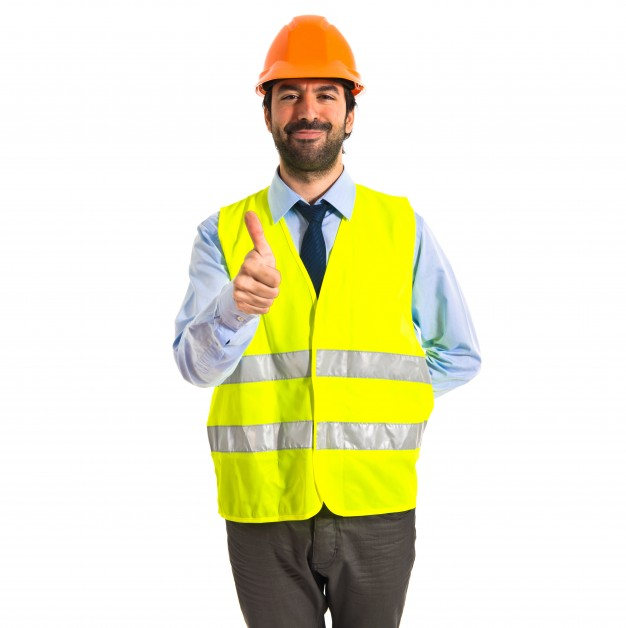thumbsup: (232, 211, 282, 313)
